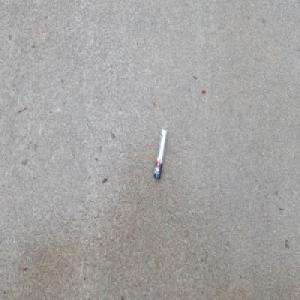Battery: (153, 127, 167, 180)
